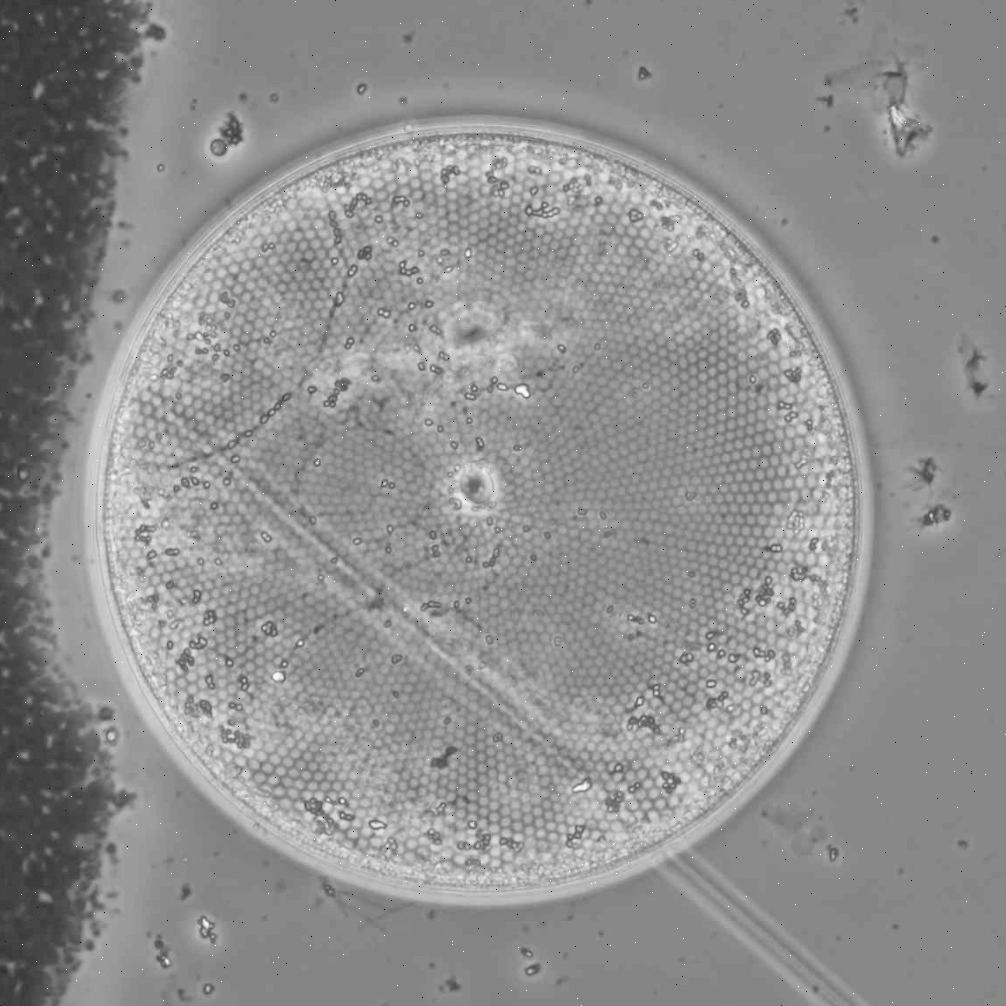coscinodiscus_oculus_iridis: (102, 127, 861, 896)
